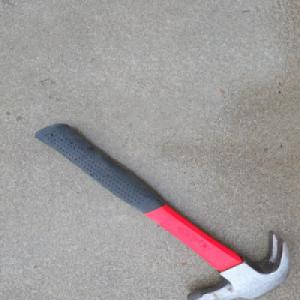Hammer: (34, 122, 288, 292)
